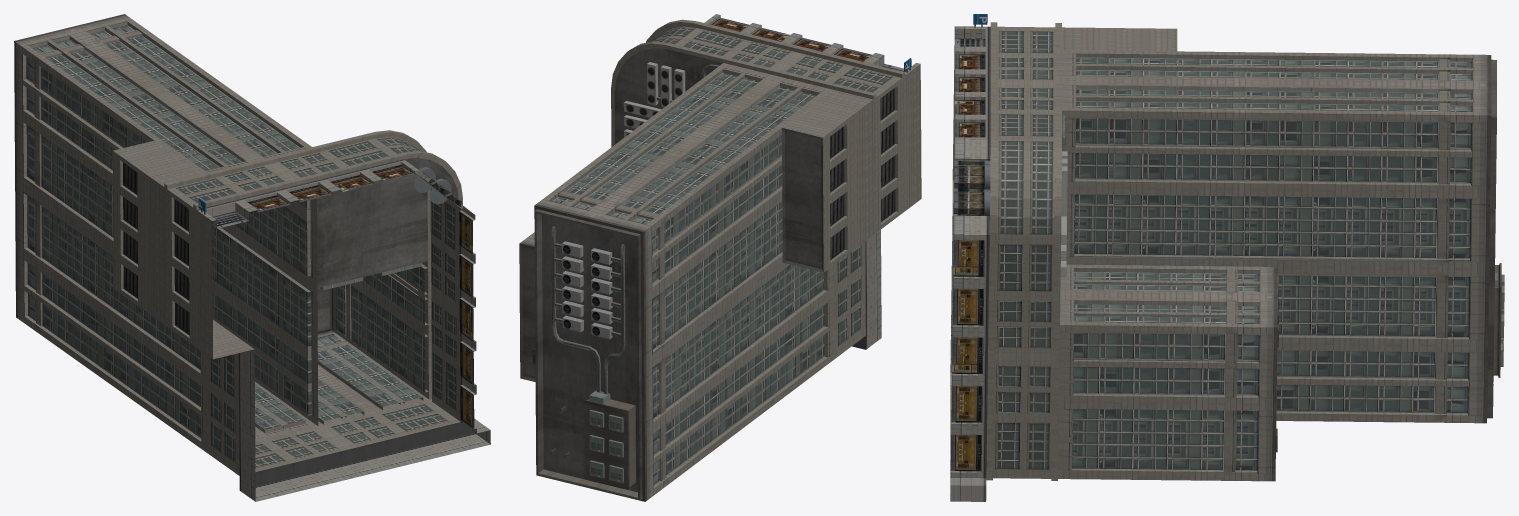
File: AIT01W2W7.fbx
The picture shows the model from 3 angles, left to right: view 1: azimuth 30°, elevation 25°; view 2: azimuth 150°, elevation 25°; view 3: azimuth 270°, elevation 25°; orthographic projection. The views are drawn at different scales.
Visible parts, largest first — view 1: AIT01W2W7; view 2: AIT01W2W7; view 3: AIT01W2W7.
Boxes of the visible parts, left/top/right/bottom form: AIT01W2W7: left=14, top=14, right=490, bottom=501; AIT01W2W7: left=519, top=14, right=921, bottom=501; AIT01W2W7: left=950, top=14, right=1504, bottom=501.
Size of the model in its own units: 3200 by 3331 by 4958.
1 material, 1 textured.
